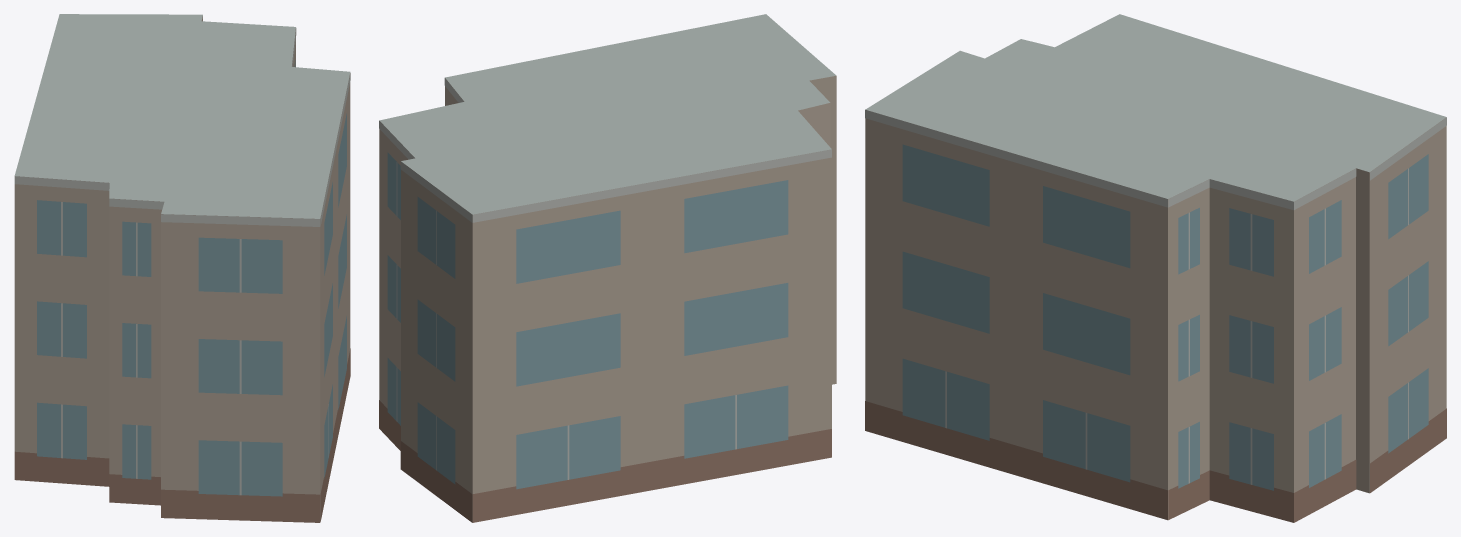
File: survey-upis-32984595.glb
The picture shows the model from 3 angles, left to right: view 1: azimuth 30°, elevation 25°; view 2: azimuth 150°, elevation 25°; view 3: azimuth 270°, elevation 25°; orthographic projection. The views are drawn at different scales.
Visible parts, largest first — view 1: survey-upis-32984595.tmp; view 2: survey-upis-32984595.tmp; view 3: survey-upis-32984595.tmp.
Boxes of the visible parts, box(x1,y1,x2,y2) form: survey-upis-32984595.tmp: box(14, 14, 350, 522); survey-upis-32984595.tmp: box(379, 14, 836, 522); survey-upis-32984595.tmp: box(865, 14, 1446, 522).
Size of the model in its own units: 11.48 by 9.15 by 15.03.
